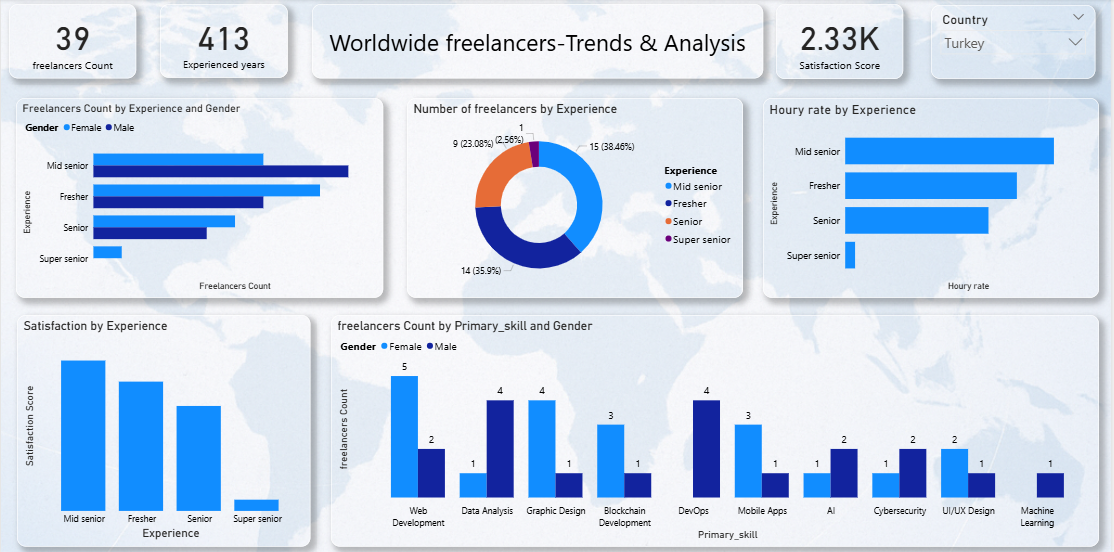

The page's visual inventory and layout, read from the dashboard file:
{"tool":"powerbi","page":{"name":"Page 1","canvas":[1850,930],"ordinal":0},"visuals":[{"type":"donutChart","title":"Number of freelancers by Experience","fields":{"Category":["Table 1 (global_freelancers_raw).Experience(years) (groups)"],"Y":["CountNonNull(Table 1 (global_freelancers_raw).freelancer_ID)"]},"box":[676.4,165.7,559.7,333.1],"z":0},{"type":"columnChart","title":"Satisfaction by Experience","fields":{"Category":["Table 1 (global_freelancers_raw).Experience(years) (groups)"],"Y":["Sum(Table 1 (global_freelancers_raw).Satisfaction)"]},"box":[27.1,525.9,488.7,385.5],"z":1000},{"type":"clusteredColumnChart","fields":{"Category":["Table 1 (global_freelancers_raw).Primary_skill"],"Series":["Table 1 (global_freelancers_raw). Gender"],"Y":["CountNonNull(Table 1 (global_freelancers_raw).freelancer_ID)"]},"box":[549.5,525.9,1280,385.5],"z":2000},{"type":"barChart","fields":{"Category":["Table 1 (global_freelancers_raw).Experience(years) (groups)"],"Y":["Sum(Table 1 (global_freelancers_raw).Houry rate)"]},"box":[1269.9,165.7,559.7,333.1],"z":3000},{"type":"clusteredBarChart","title":"Freelancers Count by Experience and Gender","fields":{"Category":["Table 1 (global_freelancers_raw).Experience(years) (groups)"],"Y":["CountNonNull(Table 1 (global_freelancers_raw).freelancer_ID)"],"Series":["Table 1 (global_freelancers_raw). Gender"]},"box":[25.4,165.7,612.1,333.1],"z":4000},{"type":"card","fields":{"Values":["CountNonNull(Table 1 (global_freelancers_raw).freelancer_ID)"]},"box":[26.7,8.9,159.9,122.6],"z":5000},{"type":"card","fields":{"Values":["Sum(Table 1 (global_freelancers_raw).Experience(years))"]},"box":[207.9,10.7,284.3,122.6],"z":6000},{"type":"slicer","fields":{"Values":["Table 1 (global_freelancers_raw).Country"]},"box":[1550,10,273.3,123.3],"z":7000},{"type":"card","fields":{"Values":["Sum(Table 1 (global_freelancers_raw).Satisfaction)"]},"box":[1292.3,8.3,212.3,124.9],"z":8000},{"type":"shape","box":[518.9,8.9,751.7,124.4],"z":9000}]}

Visuals, with their boxes in screenshot pixels (x1, y1, x2, y2), scaled from the page's 1850x930 canvas onto the 1114x552 screenshot:
"Number of freelancers by Experience" donutChart: [407, 98, 744, 296]
"Satisfaction by Experience" columnChart: [16, 312, 311, 541]
clusteredColumnChart - Table 1 (global_freelancers_raw).Primary_skill x Table 1 (global_freelancers_raw). Gender: [331, 312, 1102, 541]
barChart - Table 1 (global_freelancers_raw).Experience(years) (groups) x Sum(Table 1 (global_freelancers_raw).Houry rate): [765, 98, 1102, 296]
"Freelancers Count by Experience and Gender" clusteredBarChart: [15, 98, 384, 296]
card - CountNonNull(Table 1 (global_freelancers_raw).freelancer_ID): [16, 5, 112, 78]
card - Sum(Table 1 (global_freelancers_raw).Experience(years)): [125, 6, 296, 79]
slicer - Table 1 (global_freelancers_raw).Country: [933, 6, 1098, 79]
card - Sum(Table 1 (global_freelancers_raw).Satisfaction): [778, 5, 906, 79]
shape: [312, 5, 765, 79]
